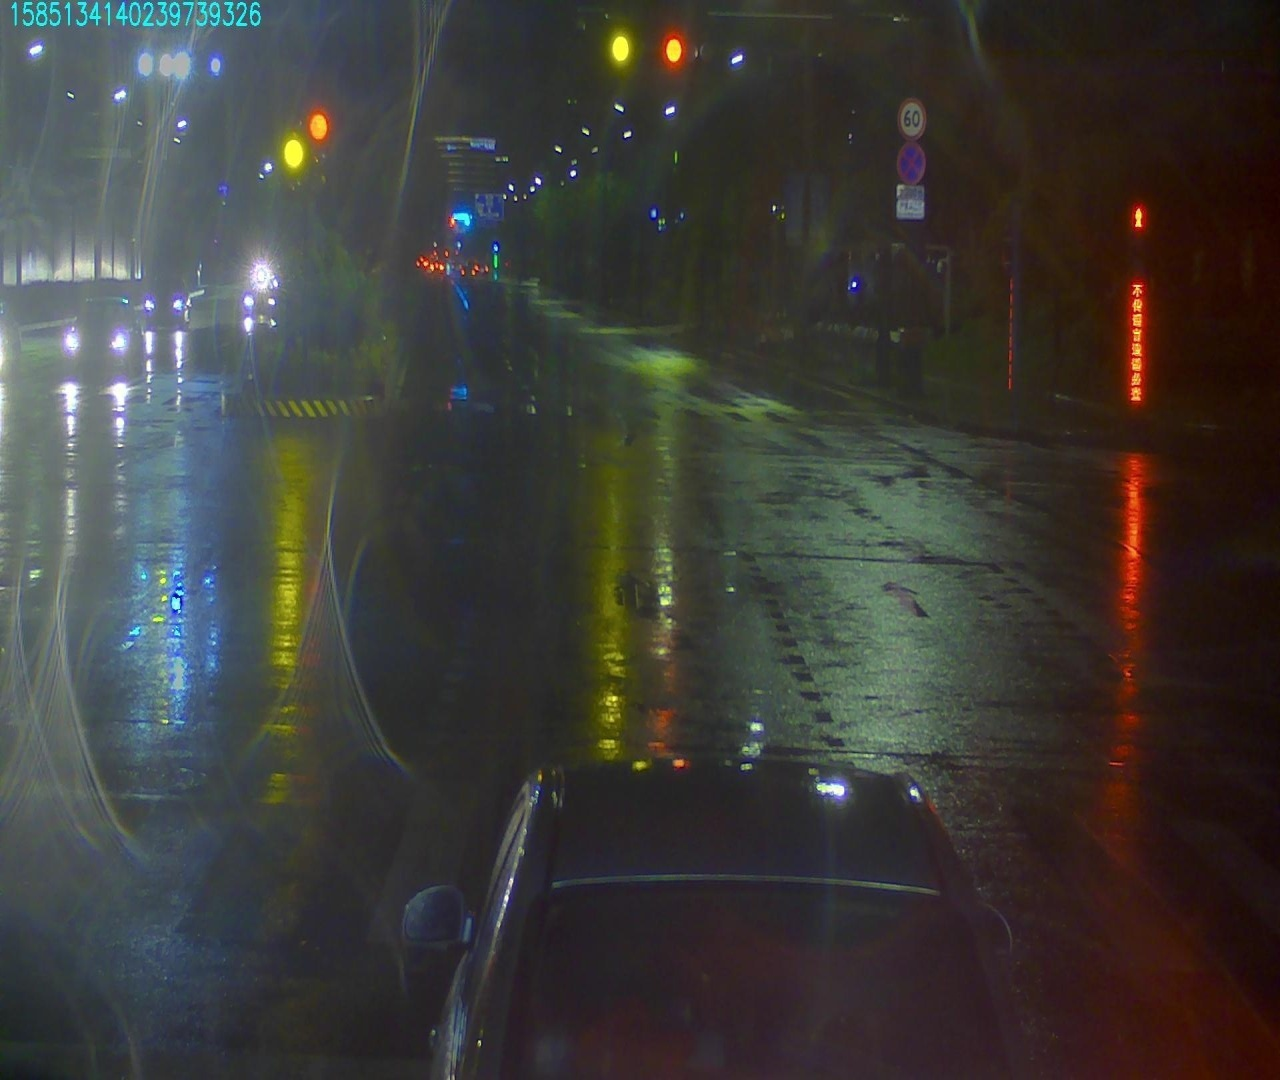red: (665, 33, 682, 66)
yellow: (608, 26, 630, 63)
